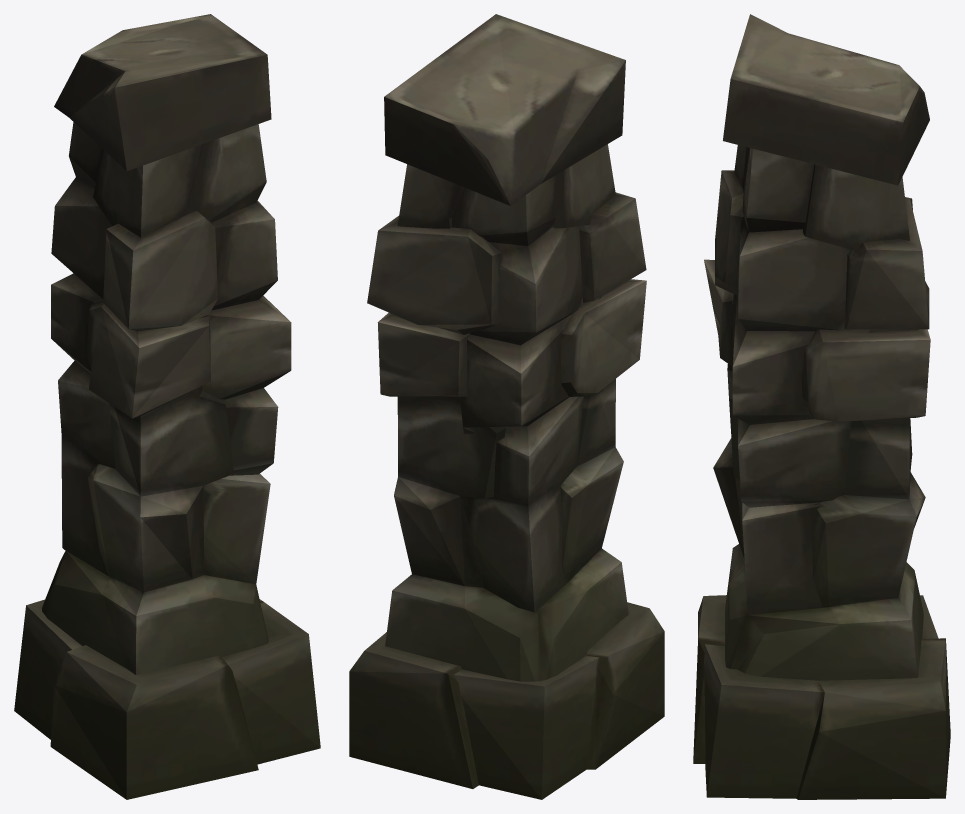
Rendered from humgraveyard_collumn_02.fbx.
3 views of the same model, side by side, from view 1: azimuth 30°, elevation 25°; view 2: azimuth 150°, elevation 25°; view 3: azimuth 270°, elevation 25° (orthographic). The views are drawn at different scales.
Parts seen in each view (by area): view 1: obj1.125; view 2: obj1.125; view 3: obj1.125.
Part boxes in pixels (x1=…): obj1.125: x1=14, y1=14, x2=320, y2=799; obj1.125: x1=349, y1=14, x2=664, y2=799; obj1.125: x1=693, y1=14, x2=950, y2=799.
Size of the model in its own units: 1.57 by 4.72 by 1.58.
